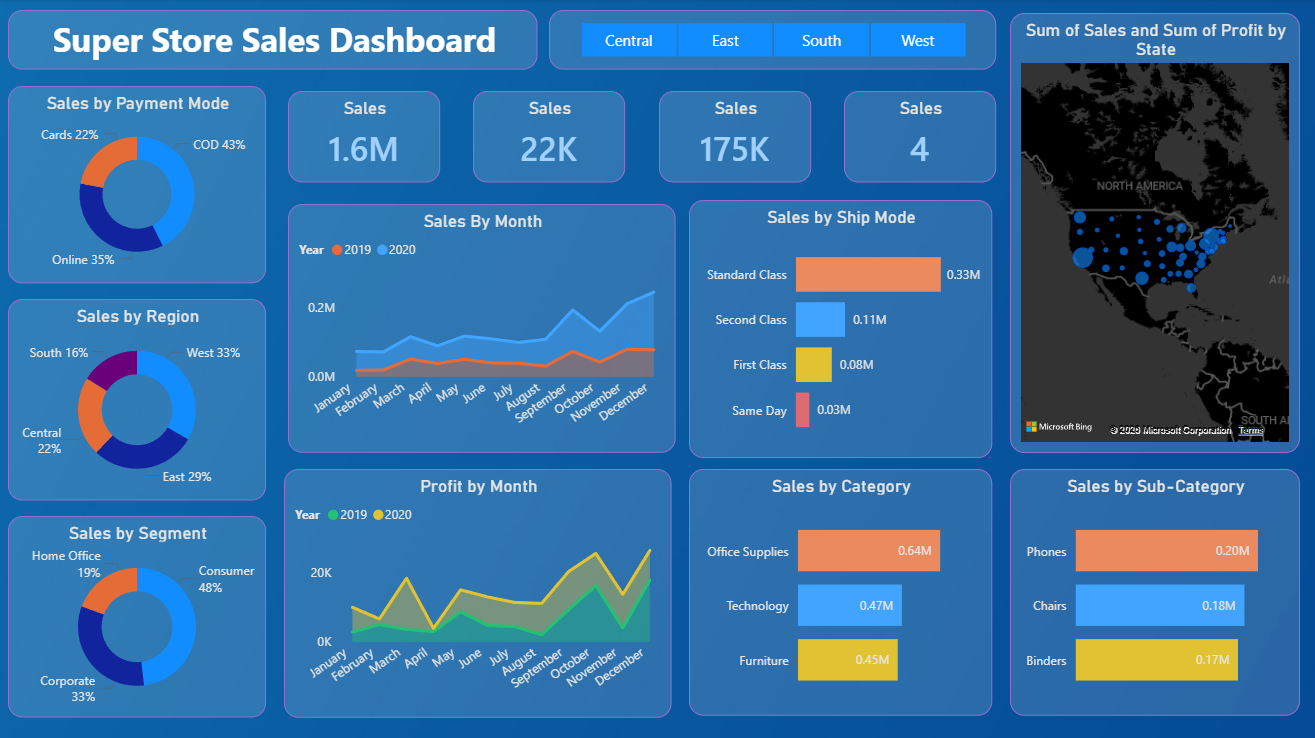

The dashboard page shown, as its layout file describes it:
{"tool":"powerbi","page":{"name":"Dashboard","canvas":[1280,720],"ordinal":0},"visuals":[{"type":"clusteredBarChart","title":"Sales by Category","fields":{"Category":["SuperStore_Sales_Dataset.Category"],"Y":["Sum(SuperStore_Sales_Dataset.Sales)"]},"box":[670.5,457.1,294.7,240.2],"z":0},{"type":"clusteredBarChart","title":"Sales by Sub-Category","fields":{"Category":["SuperStore_Sales_Dataset.Sub-Category"],"Y":["Sum(SuperStore_Sales_Dataset.Sales)"]},"box":[982.4,457.1,282.1,240.2],"z":1000},{"type":"clusteredBarChart","title":"Sales by Ship Mode","fields":{"Y":["Sum(SuperStore_Sales_Dataset.Sales)"],"Category":["SuperStore_Sales_Dataset.Ship Mode"]},"box":[670.2,195.5,294.7,250.9],"z":2000},{"type":"stackedAreaChart","title":"Sales By Month","fields":{"Y":["Sum(SuperStore_Sales_Dataset.Sales)"],"Category":["SuperStore_Sales_Dataset.Order Date.Variation.Date Hierarchy.Month","SuperStore_Sales_Dataset.Order Date.Variation.Date Hierarchy.Day"],"Series":["SuperStore_Sales_Dataset.Order Date.Variation.Date Hierarchy.Year"]},"box":[280.1,199.4,377.4,242.2],"z":3000},{"type":"stackedAreaChart","title":"Profit by Month","fields":{"Category":["SuperStore_Sales_Dataset.Order Date.Variation.Date Hierarchy.Month","SuperStore_Sales_Dataset.Order Date.Variation.Date Hierarchy.Day"],"Series":["SuperStore_Sales_Dataset.Order Date.Variation.Date Hierarchy.Year"],"Y":["Sum(SuperStore_Sales_Dataset.Profit)"]},"box":[275.9,457.1,377.4,242.2],"z":4000},{"type":"map","fields":{"Category":["SuperStore_Sales_Dataset.State"],"Size":["Sum(SuperStore_Sales_Dataset.Sales)"]},"box":[982.4,13.6,282.1,428],"z":5000},{"type":"donutChart","title":"Sales by Segment","fields":{"Category":["SuperStore_Sales_Dataset.Segment"],"Y":["Sum(SuperStore_Sales_Dataset.Sales)"]},"box":[7.8,502.9,250.9,196.5],"z":6000},{"type":"donutChart","title":"Sales by Payment Mode","fields":{"Category":["SuperStore_Sales_Dataset.Payment Mode"],"Y":["Sum(SuperStore_Sales_Dataset.Sales)"]},"box":[7.8,84.6,250.9,191.6],"z":7000},{"type":"donutChart","title":"Sales by Region","fields":{"Category":["SuperStore_Sales_Dataset.Region"],"Y":["Sum(SuperStore_Sales_Dataset.Sales)"]},"box":[7.8,291.3,250.9,196.5],"z":8000},{"type":"slicer","fields":{"Values":["SuperStore_Sales_Dataset.Region"]},"box":[534,10.7,434.8,58.4],"z":9000},{"type":"textbox","box":[7.8,10.7,514.5,58.4],"z":10000},{"type":"cardVisual","title":"Sales","fields":{"Data":["Sum(SuperStore_Sales_Dataset.Sales)"]},"box":[280.1,89.5,147.8,88.5],"z":11000},{"type":"cardVisual","title":"Sales","fields":{"Data":["Sum(SuperStore_Sales_Dataset.Quantity)"]},"box":[460.4,89.5,147.8,88.5],"z":12000},{"type":"cardVisual","title":"Sales","fields":{"Data":["Sum(SuperStore_Sales_Dataset.Profit)"]},"box":[640.6,89.5,147.8,88.5],"z":13000},{"type":"cardVisual","title":"Sales","fields":{"Data":["Avg(SuperStore_Sales_Dataset.AvgDelivery)"]},"box":[820.9,89.5,147.8,88.5],"z":14000}]}

Visuals, with their boxes in screenshot pixels (x1, y1, x2, y2), scaled from the page's 1280x720 canvas onto the 1315x738 screenshot:
"Sales by Category" clusteredBarChart: select_region(689, 469, 992, 715)
"Sales by Sub-Category" clusteredBarChart: select_region(1009, 469, 1299, 715)
"Sales by Ship Mode" clusteredBarChart: select_region(689, 200, 991, 458)
"Sales By Month" stackedAreaChart: select_region(288, 204, 675, 453)
"Profit by Month" stackedAreaChart: select_region(283, 469, 671, 717)
map - SuperStore_Sales_Dataset.State x Sum(SuperStore_Sales_Dataset.Sales): select_region(1009, 14, 1299, 453)
"Sales by Segment" donutChart: select_region(8, 515, 266, 717)
"Sales by Payment Mode" donutChart: select_region(8, 87, 266, 283)
"Sales by Region" donutChart: select_region(8, 299, 266, 500)
slicer - SuperStore_Sales_Dataset.Region: select_region(549, 11, 995, 71)
textbox: select_region(8, 11, 537, 71)
"Sales" cardVisual: select_region(288, 92, 440, 182)
"Sales" cardVisual: select_region(473, 92, 625, 182)
"Sales" cardVisual: select_region(658, 92, 810, 182)
"Sales" cardVisual: select_region(843, 92, 995, 182)
